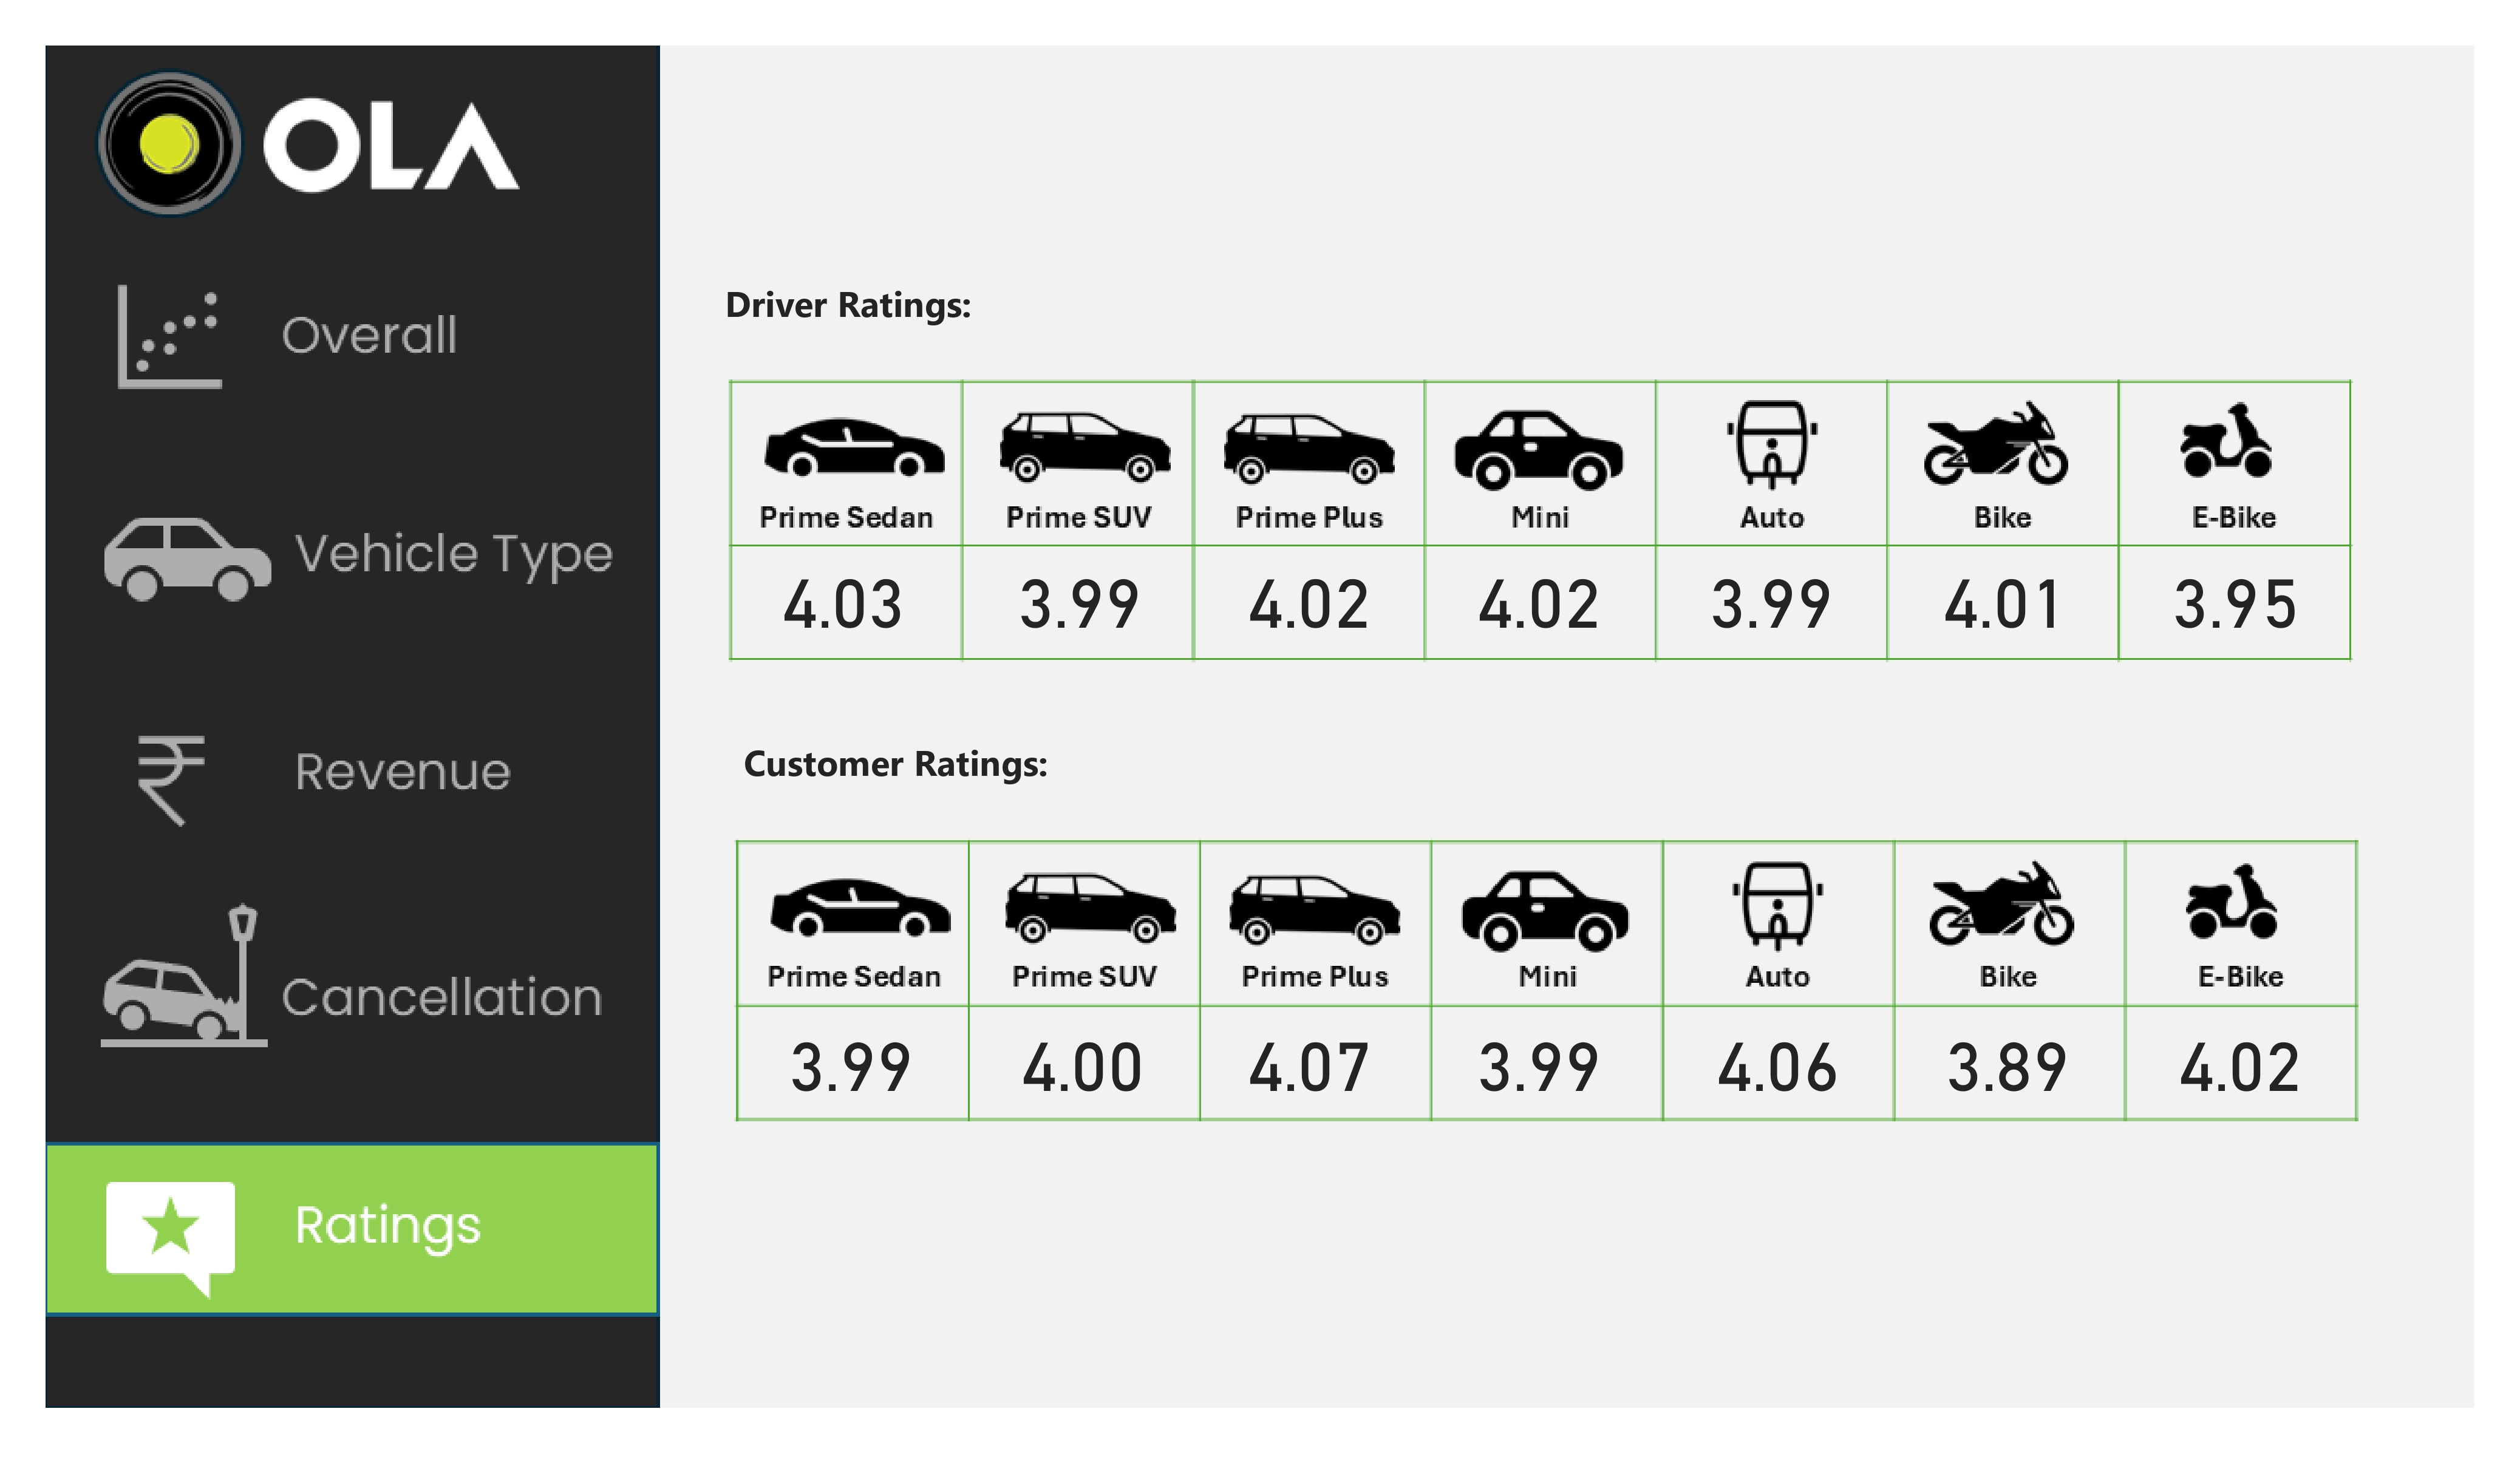

Layout of this report page (visuals, bound fields, positions):
{"tool":"powerbi","page":{"name":"Ratings","canvas":[1280,720],"ordinal":4},"visuals":[{"type":"actionButton","box":[0,105.1,324,96.5],"z":0},{"type":"actionButton","box":[0,218.9,322.6,89.3],"z":1000},{"type":"actionButton","box":[0,329.8,322.6,93.6],"z":2000},{"type":"actionButton","box":[0,445,322.6,97.9],"z":3000},{"type":"card","fields":{"Values":["Avg(July.Driver_Ratings)"]},"box":[366.2,265.4,109.2,52.1],"z":4000},{"type":"card","fields":{"Values":["Avg(July.Driver_Ratings)"]},"box":[490.5,265.4,109.2,52.1],"z":5000},{"type":"card","fields":{"Values":["Avg(July.Driver_Ratings)"]},"box":[611.4,265.4,109.2,52.1],"z":6000},{"type":"card","fields":{"Values":["Avg(July.Driver_Ratings)"]},"box":[732.4,265.4,109.2,52.1],"z":7000},{"type":"card","fields":{"Values":["Avg(July.Driver_Ratings)"]},"box":[855,265.4,109.2,52.1],"z":8000},{"type":"card","fields":{"Values":["Avg(July.Driver_Ratings)"]},"box":[977.6,265.4,109.2,52.1],"z":9000},{"type":"card","fields":{"Values":["Avg(July.Driver_Ratings)"]},"box":[1100.3,265.4,109.2,52.1],"z":10000},{"type":"card","fields":{"Values":["Avg(July.Customer_Rating)"]},"box":[369.6,509,109.2,52.1],"z":11000},{"type":"card","fields":{"Values":["Avg(July.Customer_Rating)"]},"box":[492.2,509,109.2,52.1],"z":12000},{"type":"card","fields":{"Values":["Avg(July.Customer_Rating)"]},"box":[611.4,509,109.2,52.1],"z":13000},{"type":"card","fields":{"Values":["Avg(July.Customer_Rating)"]},"box":[732.4,509,109.2,52.1],"z":14000},{"type":"card","fields":{"Values":["Avg(July.Customer_Rating)"]},"box":[858.4,509,109.2,52.1],"z":15000},{"type":"card","fields":{"Values":["Avg(July.Customer_Rating)"]},"box":[979.3,509,109.2,52.1],"z":16000},{"type":"card","fields":{"Values":["Avg(July.Customer_Rating)"]},"box":[1101.9,509,109.2,52.1],"z":17000},{"type":"textbox","box":[352.8,118.1,182.9,36],"z":18000},{"type":"textbox","box":[362.9,360,182.9,36],"z":19000}]}

Visuals, with their boxes on the page's 1280x720 design canvas (x1, y1, x2, y2). These are canvas units, not pixel positions in the 2520x1457 screenshot, which may show the page scaled, cropped or inside an application window:
actionButton: <box>0,105,324,202</box>
actionButton: <box>0,219,323,308</box>
actionButton: <box>0,330,323,423</box>
actionButton: <box>0,445,323,543</box>
card - Avg(July.Driver_Ratings): <box>366,265,475,318</box>
card - Avg(July.Driver_Ratings): <box>490,265,600,318</box>
card - Avg(July.Driver_Ratings): <box>611,265,721,318</box>
card - Avg(July.Driver_Ratings): <box>732,265,842,318</box>
card - Avg(July.Driver_Ratings): <box>855,265,964,318</box>
card - Avg(July.Driver_Ratings): <box>978,265,1087,318</box>
card - Avg(July.Driver_Ratings): <box>1100,265,1210,318</box>
card - Avg(July.Customer_Rating): <box>370,509,479,561</box>
card - Avg(July.Customer_Rating): <box>492,509,601,561</box>
card - Avg(July.Customer_Rating): <box>611,509,721,561</box>
card - Avg(July.Customer_Rating): <box>732,509,842,561</box>
card - Avg(July.Customer_Rating): <box>858,509,968,561</box>
card - Avg(July.Customer_Rating): <box>979,509,1088,561</box>
card - Avg(July.Customer_Rating): <box>1102,509,1211,561</box>
textbox: <box>353,118,536,154</box>
textbox: <box>363,360,546,396</box>
